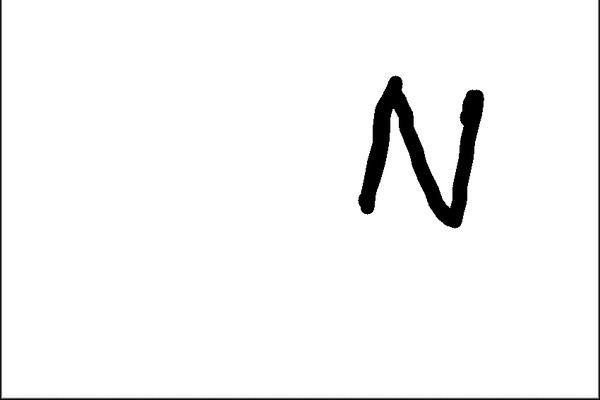N: (348, 70, 490, 237)
